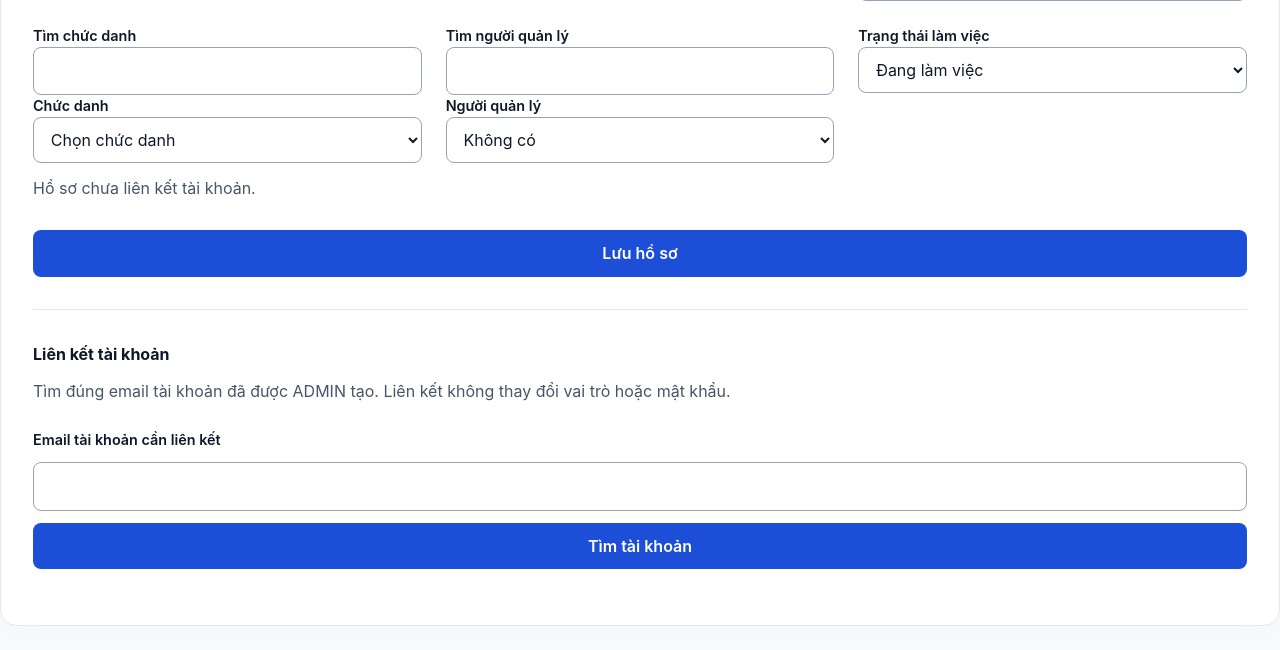
Test: looks up one exact email before linking an account
(page scrolled)
Type "employee@example.com" into the field labelled "Email tài khoản cần liên kết". click: (640, 486)
box: [33, 462, 1247, 511]
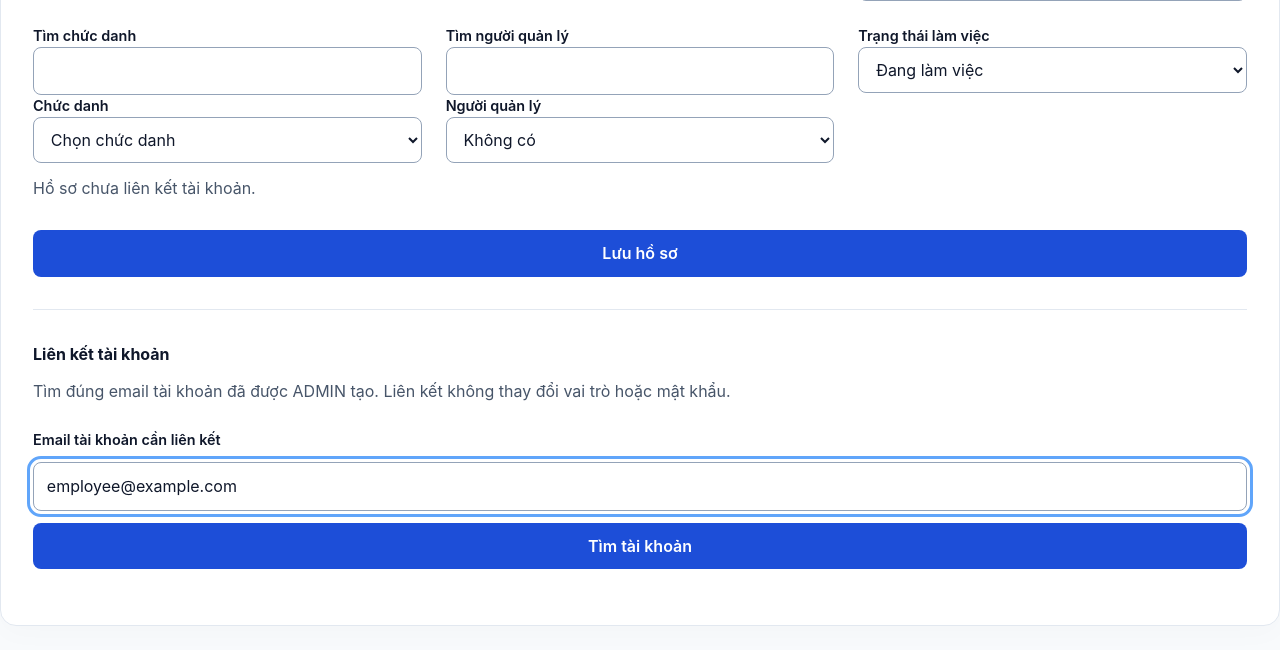
Click the button "Tìm tài khoản". click: (640, 546)
box: [33, 523, 1247, 569]
(page scrolled)
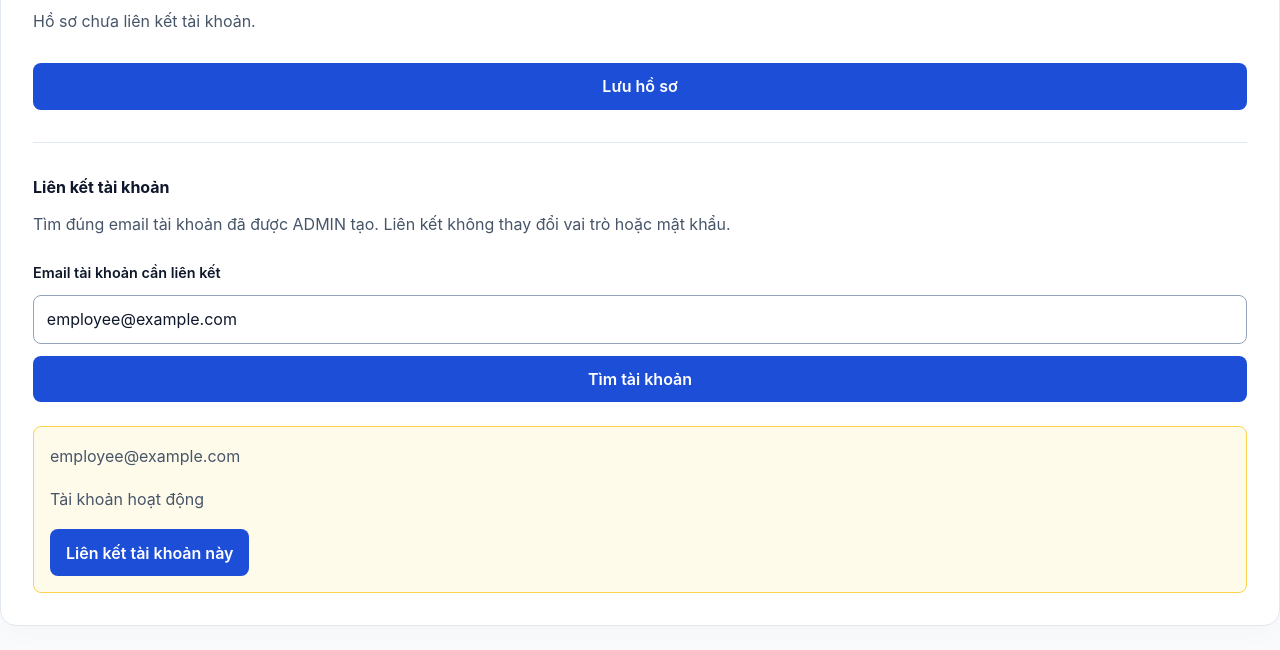
Expected: the text "employee@example.com" is shown, [50, 446, 240, 466]
Click the button "Liên kết tài khoản này". click: (150, 553)
box: [50, 529, 250, 576]
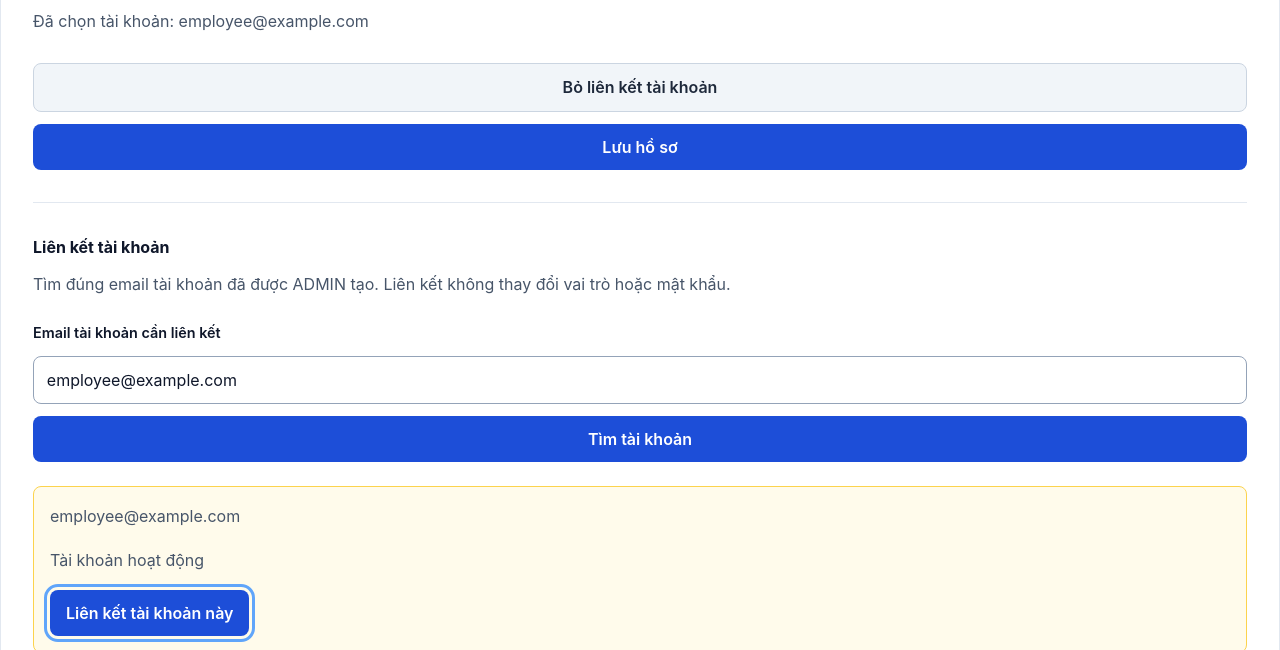
Expected: the text "Đã chọn tài khoản: employee@example.com" is shown, [33, 11, 369, 31]
